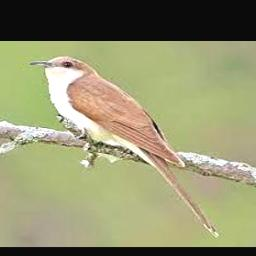Cuckoo: (29, 56, 220, 237)
